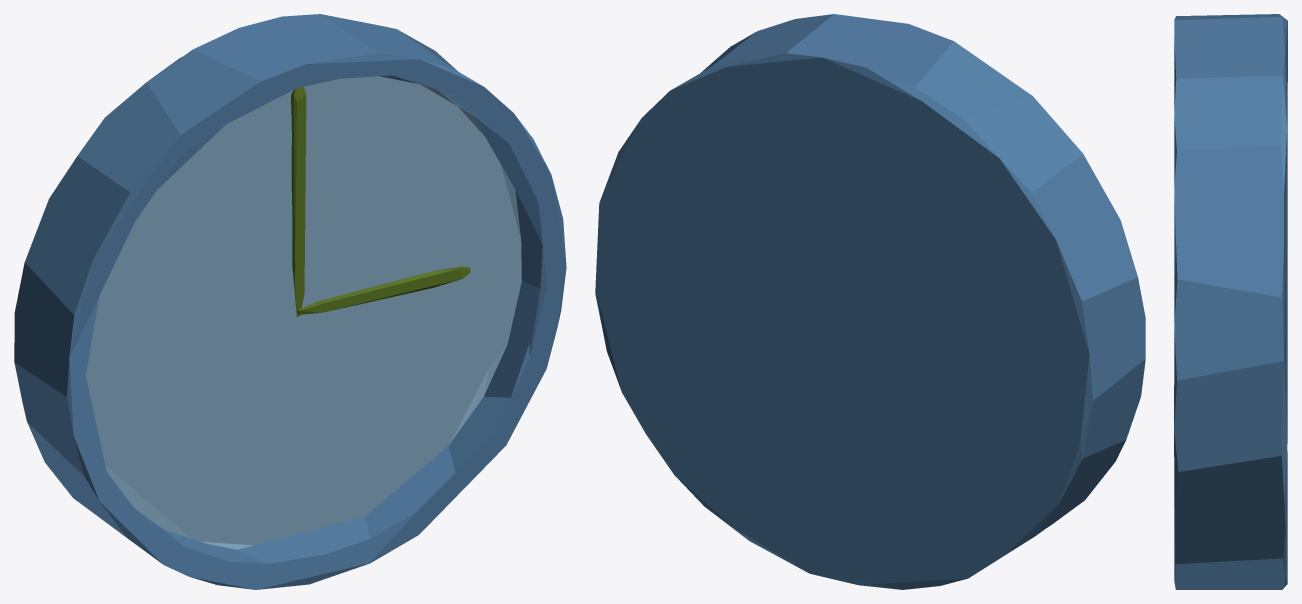
Rendered from Clock.fbx.
3 views of the same model, side by side, from view 1: azimuth 30°, elevation 25°; view 2: azimuth 150°, elevation 25°; view 3: azimuth 270°, elevation 25° (orthographic).
Parts seen in each view (by area): view 1: ClockLowPoly, ClockHandBigLowPoly, ClockHandSmallLowPoly; view 2: ClockLowPoly; view 3: ClockLowPoly.
Boxes of the visible parts, x1=… form: ClockLowPoly: x1=14, y1=14, x2=566, y2=589; ClockHandBigLowPoly: x1=291, y1=86, x2=306, y2=316; ClockHandSmallLowPoly: x1=297, y1=266, x2=470, y2=314; ClockLowPoly: x1=595, y1=14, x2=1145, y2=589; ClockLowPoly: x1=1174, y1=14, x2=1287, y2=589.
Bounding box in the file's own units: 19.28 × 19.31 × 3.82.
